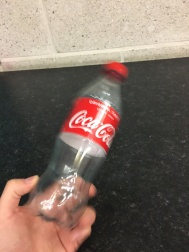bottle_red: (36, 42, 136, 235)
